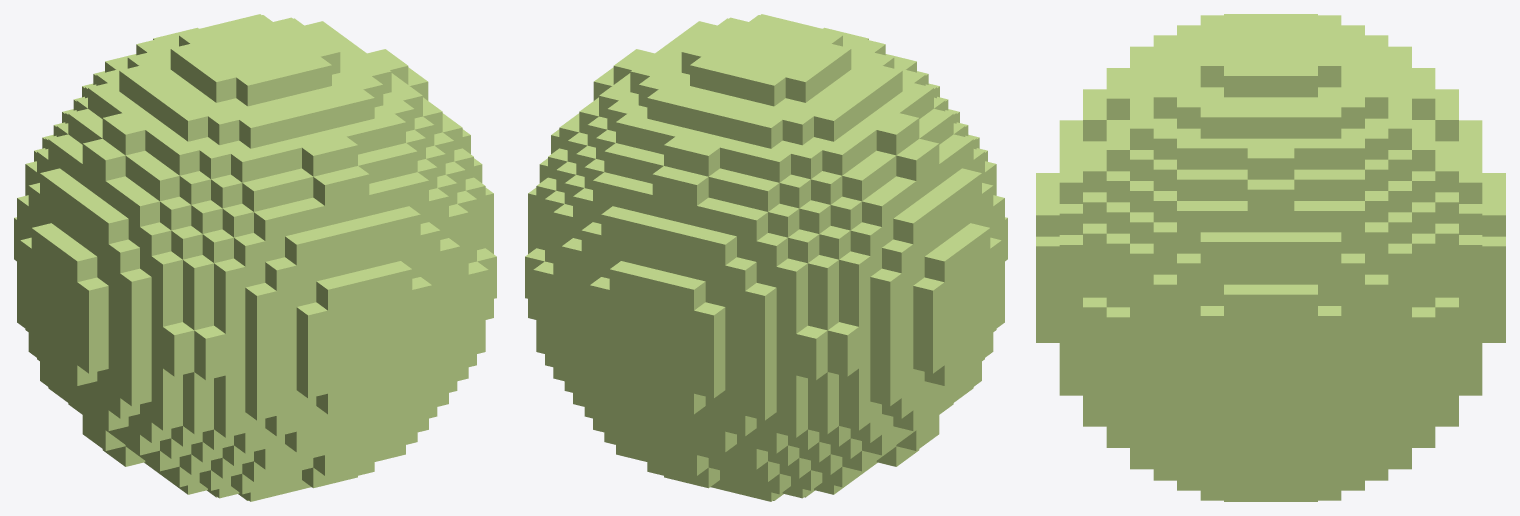
Rendered from Planet 01.obj.
3 renders of one model, left to right at view 1: azimuth 30°, elevation 25°; view 2: azimuth 150°, elevation 25°; view 3: azimuth 270°, elevation 25°, orthographic. The views are drawn at different scales.
Visible parts, largest first — view 1: Planet 01; view 2: Planet 01; view 3: Planet 01.
Boxes of the visible parts, x1,y1,x2,y2 form: Planet 01: (14,14,496,501); Planet 01: (525,14,1007,501); Planet 01: (1036,14,1505,501).
Bounding box in the file's own units: 81 × 80 × 80.
1 material, 1 textured.
